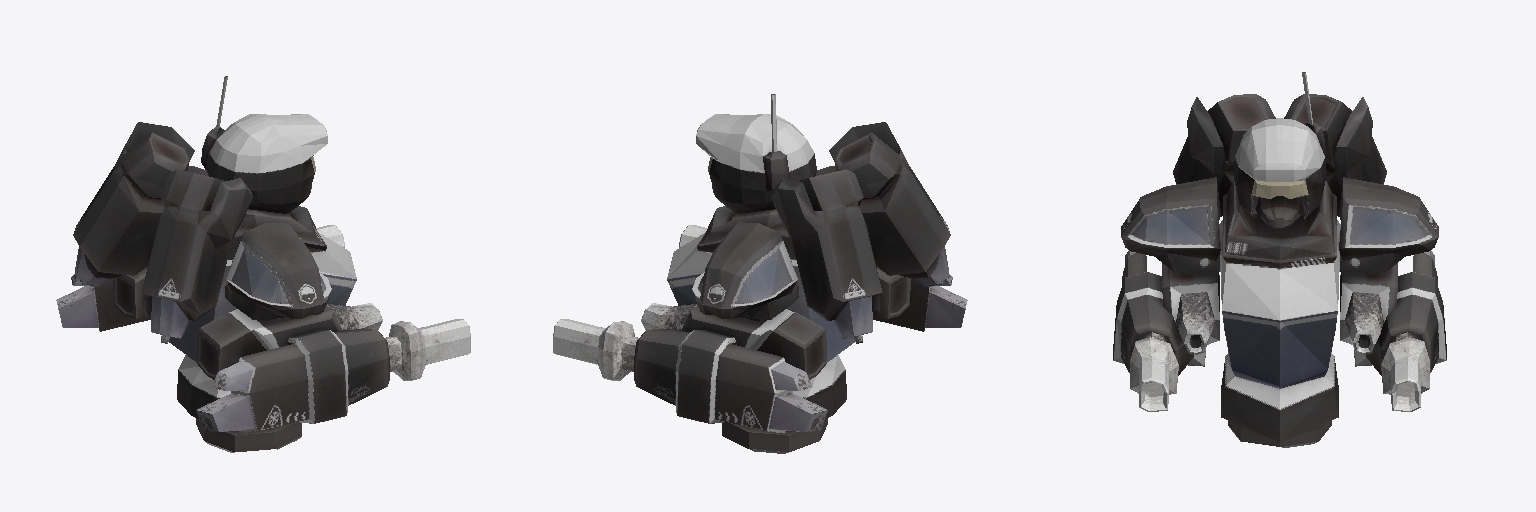
The picture shows the model from 3 angles: view 1: azimuth 30°, elevation 25°; view 2: azimuth 150°, elevation 25°; view 3: azimuth 270°, elevation 25°; orthographic projection.
Visible parts, largest first — view 1: Mecha_Ice_Top, Mecha_Ice_Bot; view 2: Mecha_Ice_Top, Mecha_Ice_Bot; view 3: Mecha_Ice_Top, Mecha_Ice_Bot.
Part boxes in pixels (x1,y1,x2,y2): Mecha_Ice_Top: (56, 76, 470, 433); Mecha_Ice_Bot: (196, 418, 301, 452); Mecha_Ice_Top: (553, 94, 967, 433); Mecha_Ice_Bot: (722, 418, 827, 453); Mecha_Ice_Top: (1113, 72, 1446, 442); Mecha_Ice_Bot: (1228, 421, 1331, 447).
Bounding box in the file's own units: 91.45 × 105 × 90.72.
1 materials, 1 textured.